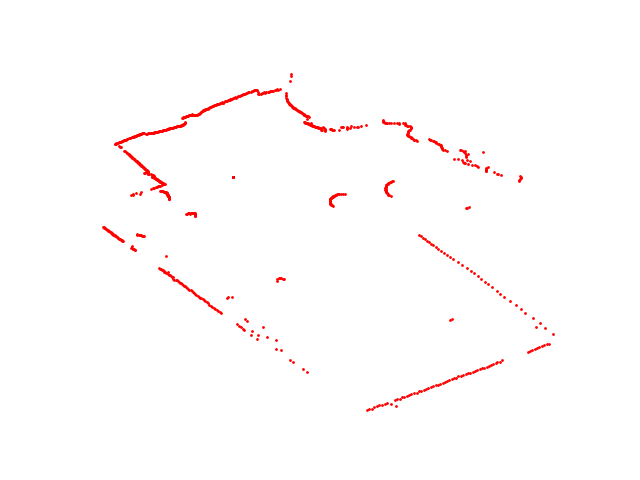person: (327, 178, 396, 209)
